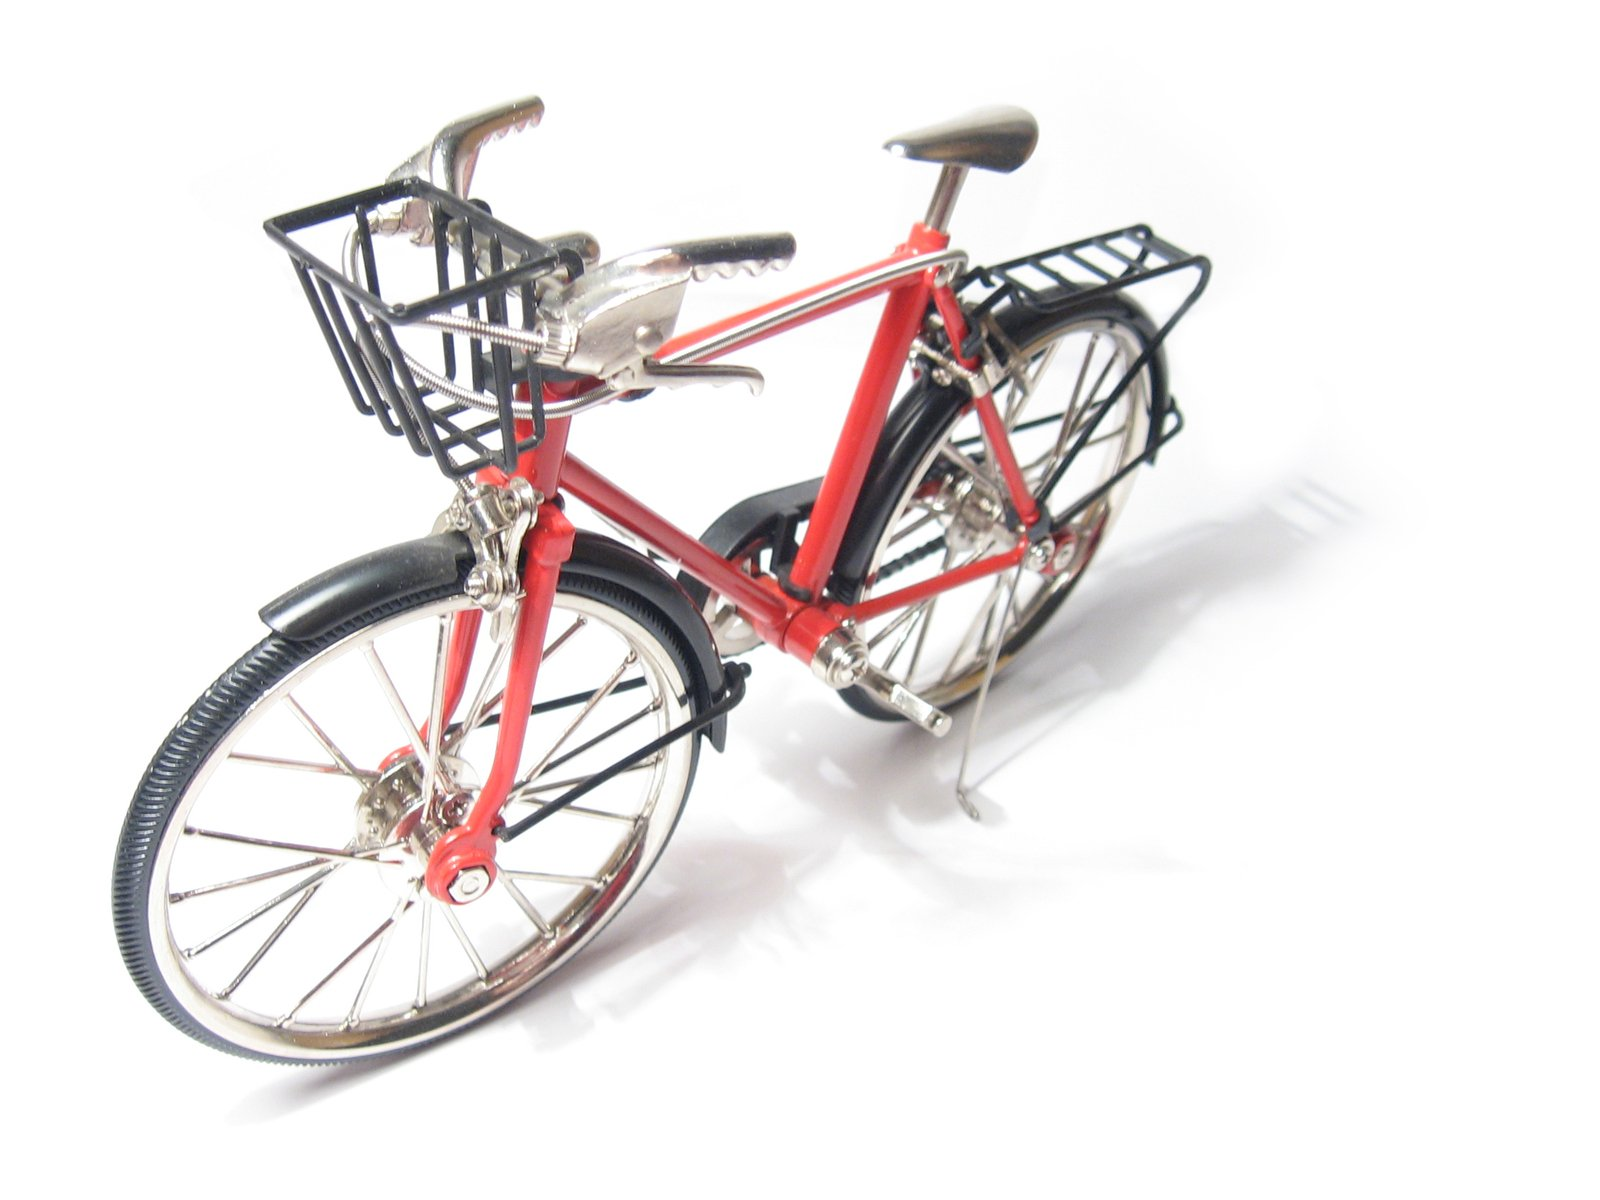Bicycle: (42, 30, 1600, 1200)
